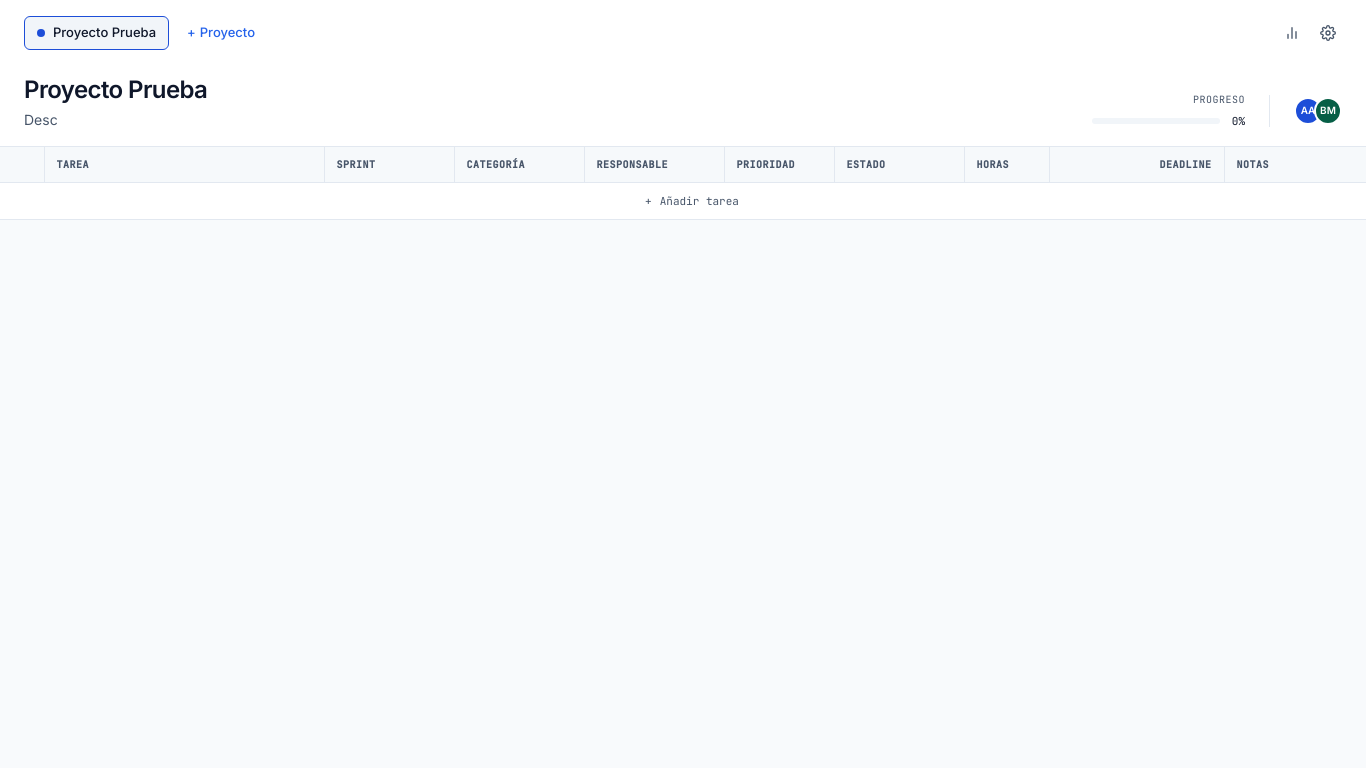
Test: ScrumView — RBAC integrado (Admin vs Miembro) › oculta controles exclusivos de Admin cuando el usuario es Miembro
Click the button titled "Ajustes del proyecto" at (1328, 33), box left=1314, top=19, right=1342, bottom=47
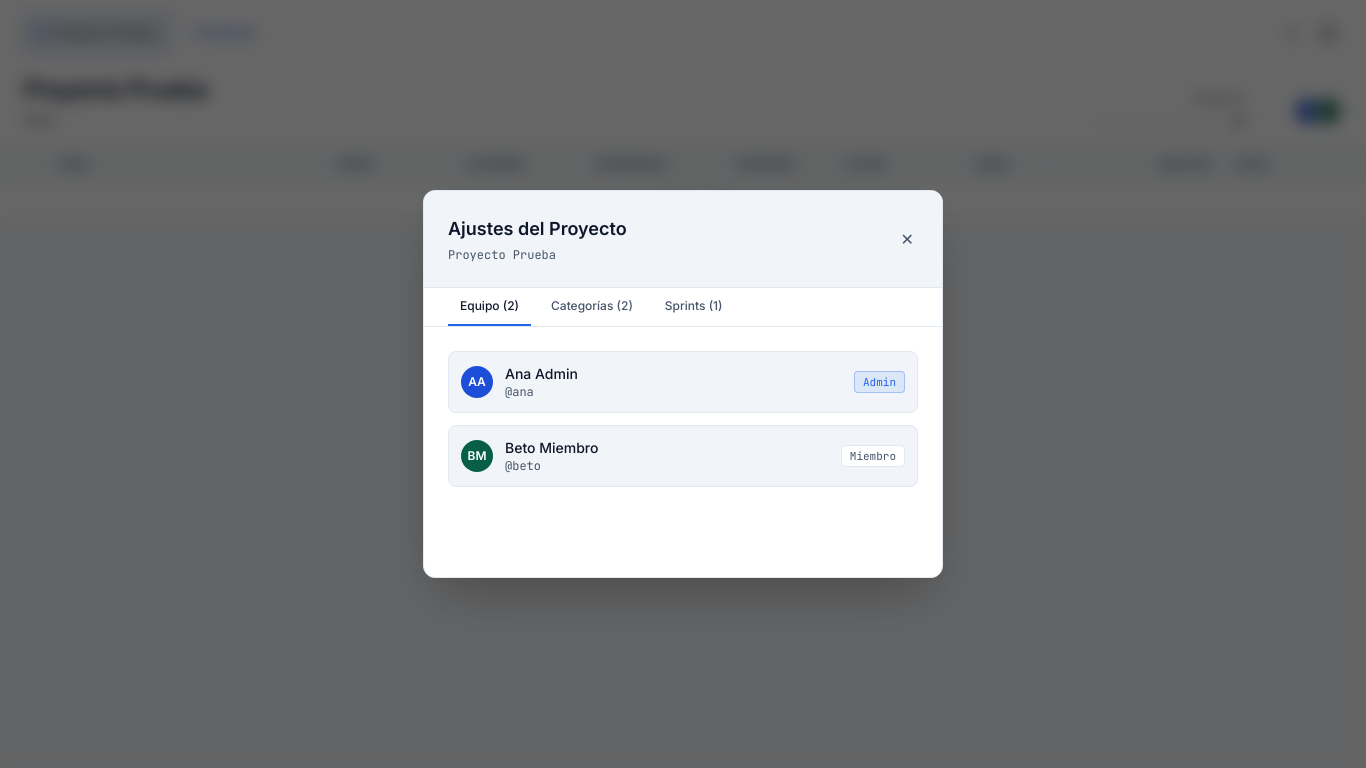
Expected: the heading "Ajustes del Proyecto" is shown, left=448, top=215, right=627, bottom=243
